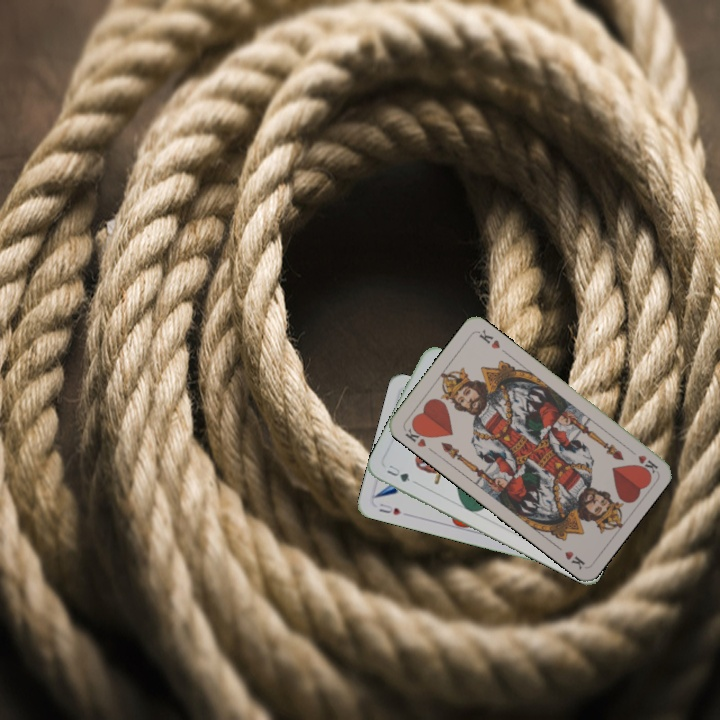GU: (383, 461, 414, 485)
HK: (624, 444, 660, 476), (401, 421, 431, 450)
HU: (375, 499, 404, 518)
